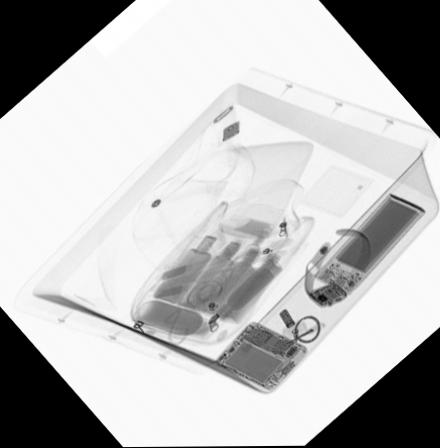Powerbank: (310, 190, 427, 295)
